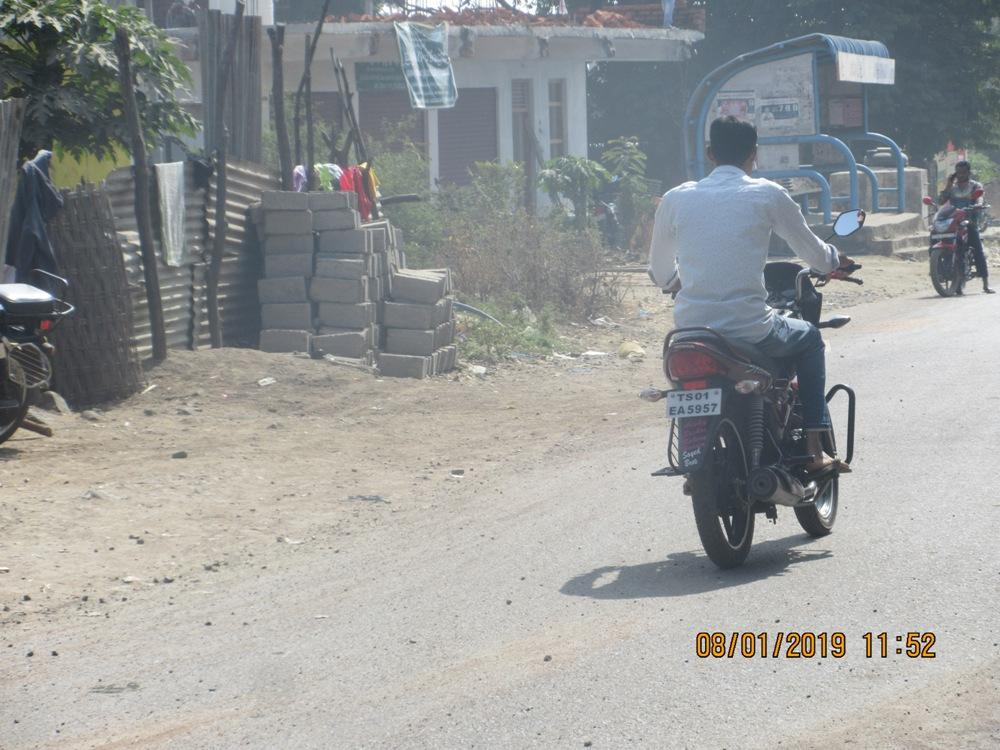plate: (662, 384, 723, 423)
